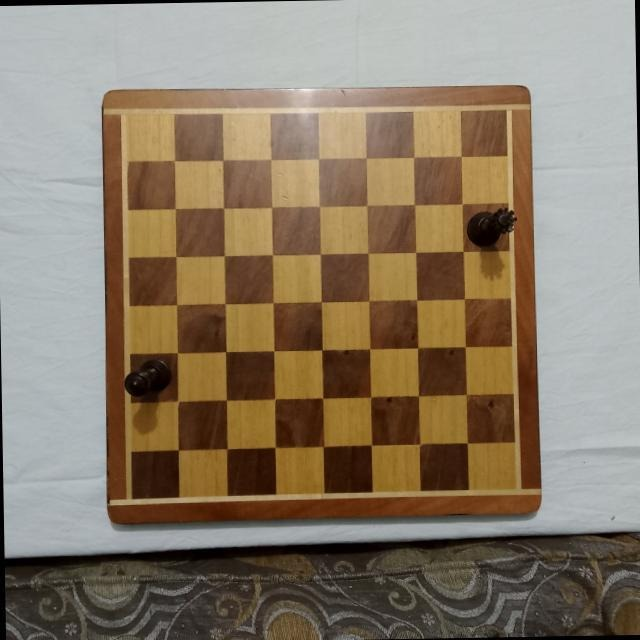black-king: (121, 356, 171, 398)
black-queen: (464, 205, 519, 247)
